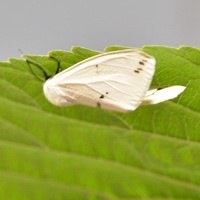insect: (43, 49, 185, 111)
